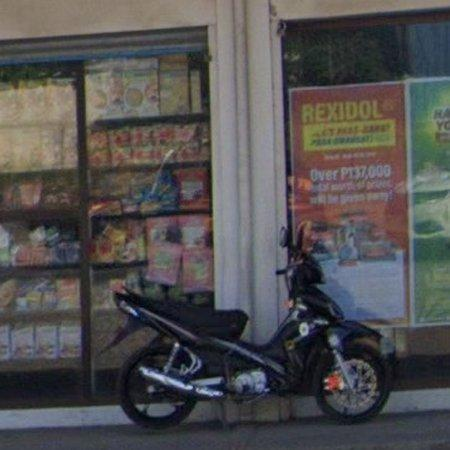motorcycles: (112, 222, 391, 428)
